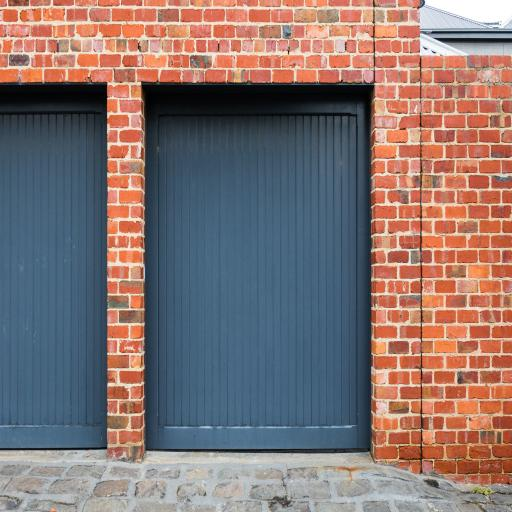Door: (144, 88, 371, 452), (0, 86, 107, 451)
